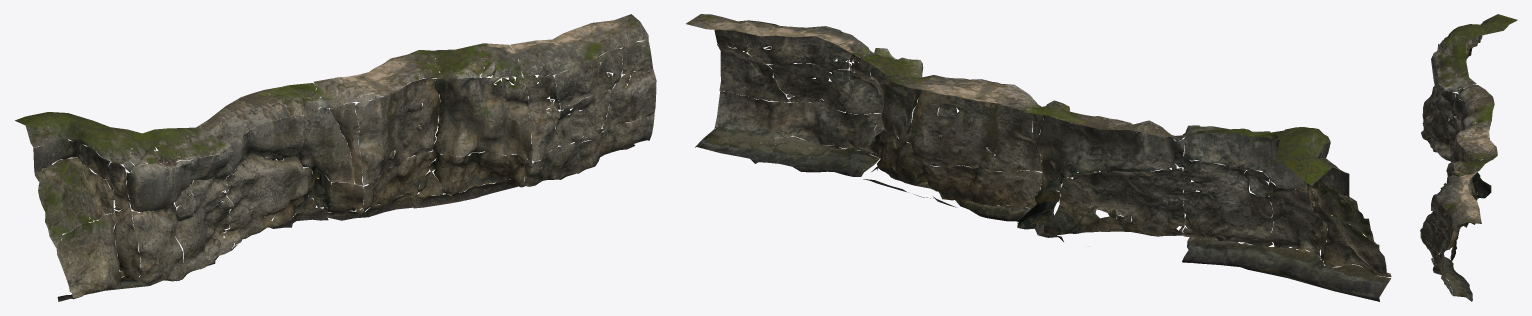
Rendered from coastal_cliff_02.glb.
The picture shows the model from 3 angles, left to right: view 1: azimuth 30°, elevation 25°; view 2: azimuth 150°, elevation 25°; view 3: azimuth 270°, elevation 25°; orthographic projection. The views are drawn at different scales.
Visible parts, largest first — view 1: coastal_cliff_02_LOD0; view 2: coastal_cliff_02_LOD0; view 3: coastal_cliff_02_LOD0.
Boxes of the visible parts, x1=… form: coastal_cliff_02_LOD0: x1=15, y1=14, x2=656, y2=301; coastal_cliff_02_LOD0: x1=686, y1=14, x2=1391, y2=301; coastal_cliff_02_LOD0: x1=1420, y1=14, x2=1517, y2=301.
Bounding box in the file's own units: 40.92 × 10.04 × 8.63.
Materials: 1 (1 with a texture image).
